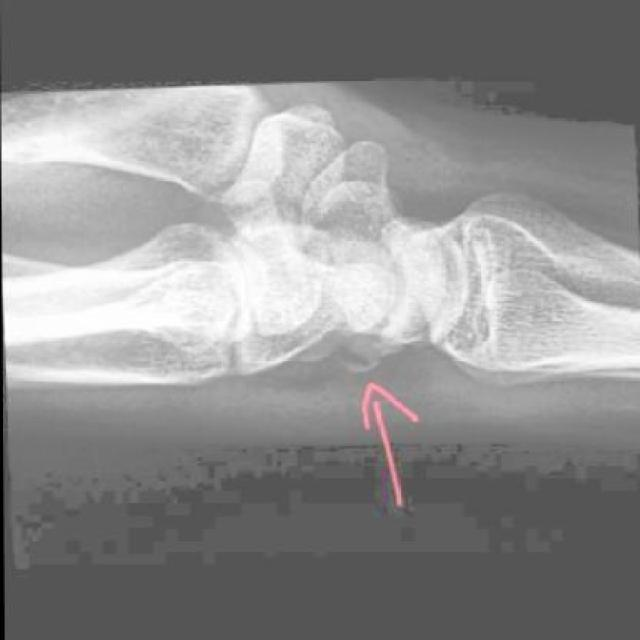Fracture: (311, 314, 404, 380)
